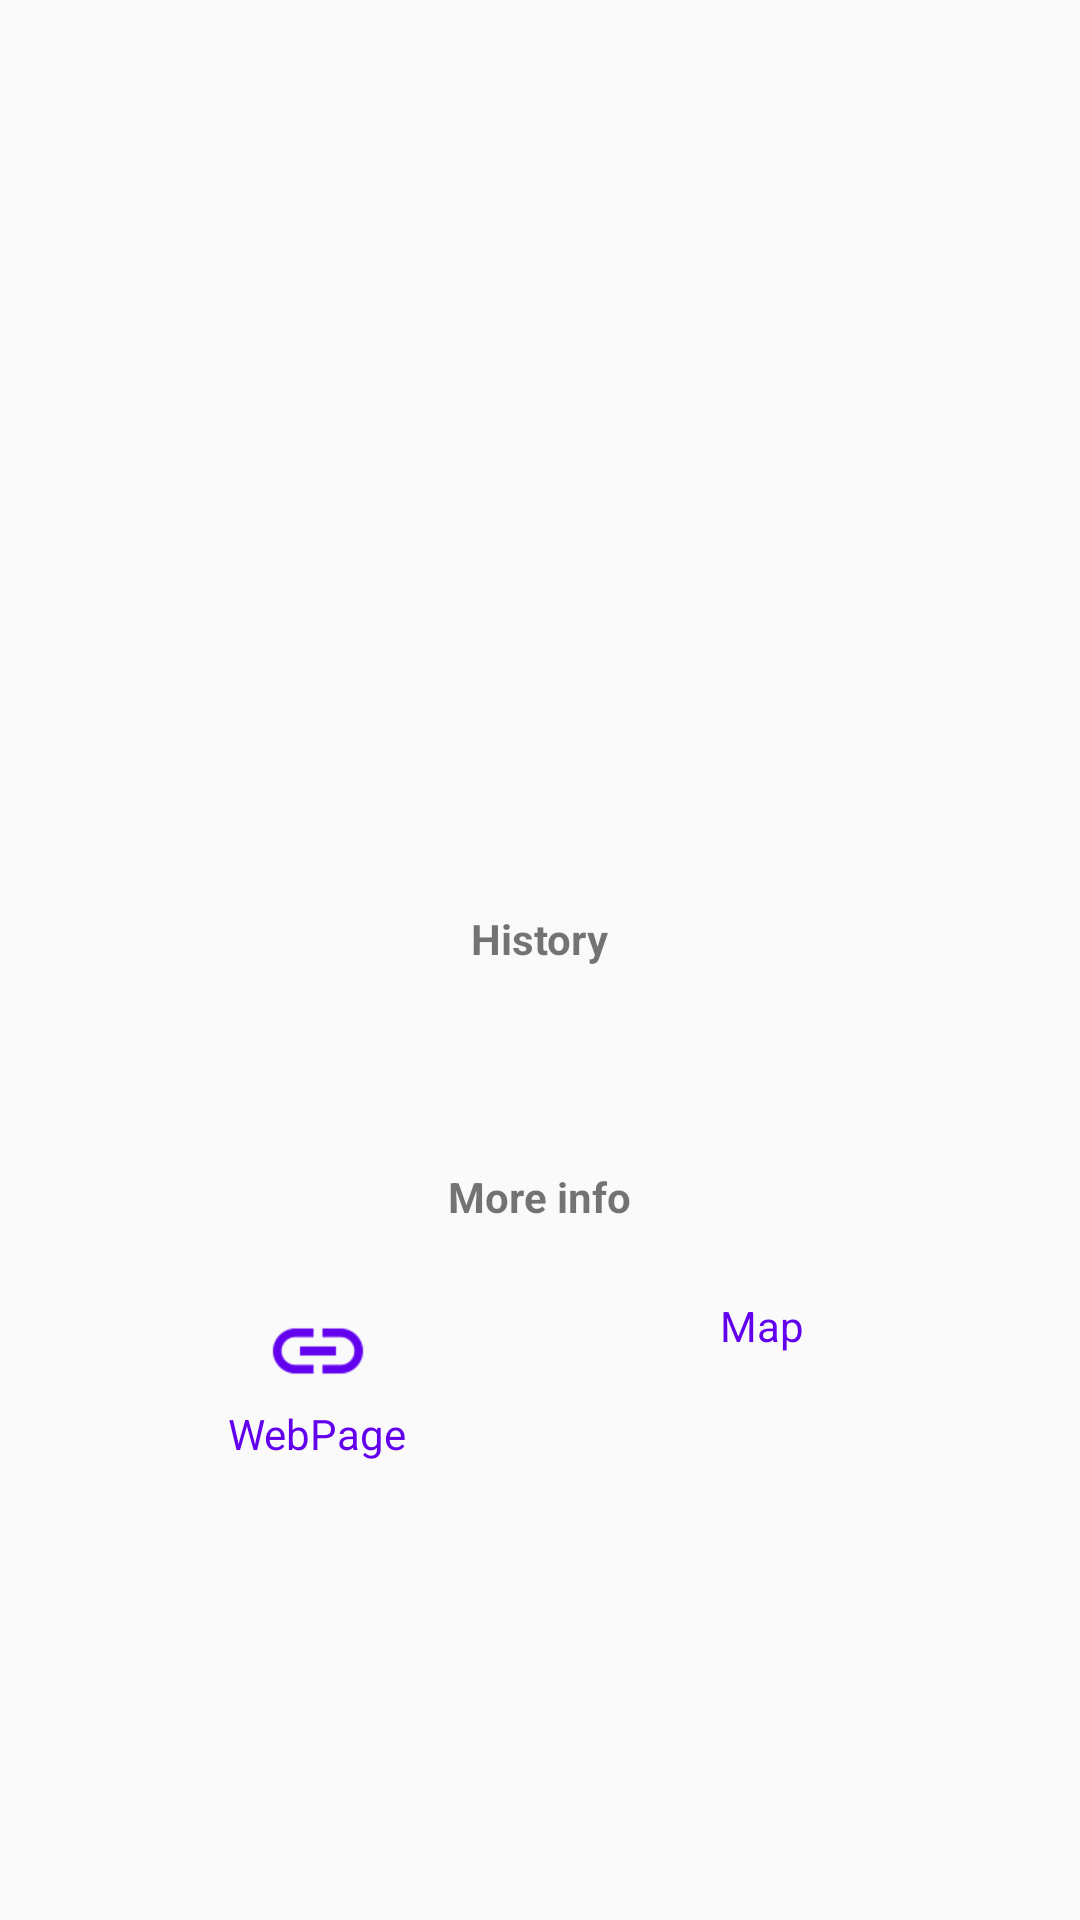

Point at icon controls on the screen. Image size 1080 x 1920, points as (x=x, y=y).
link: (x=318, y=1351)
